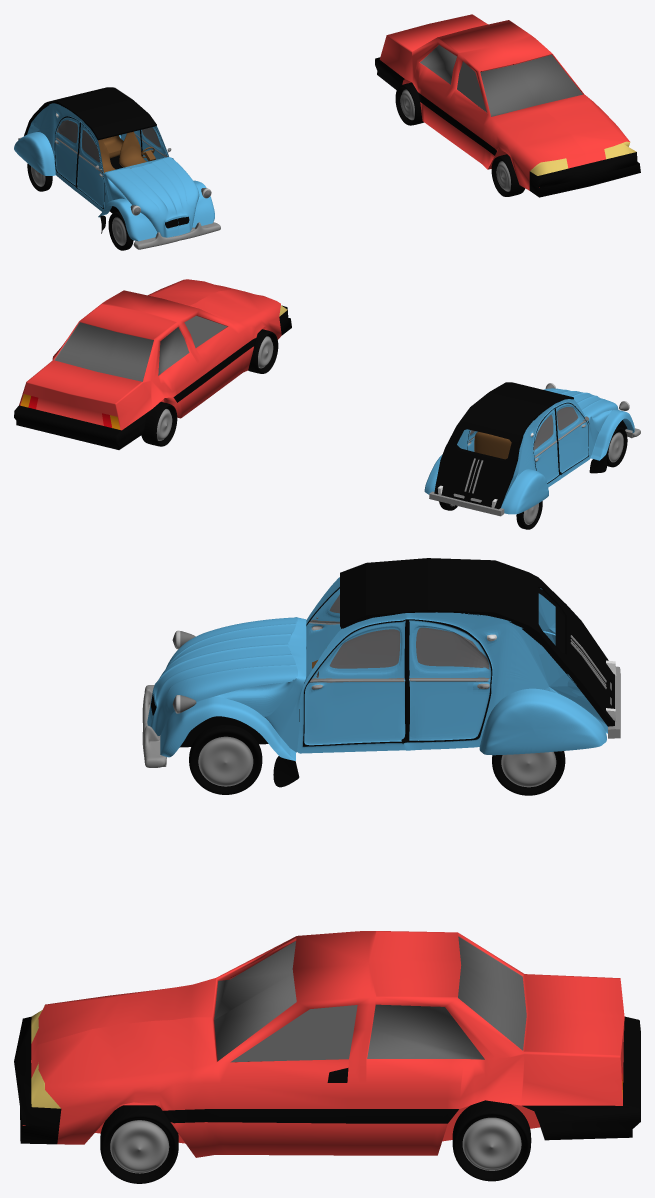
Rendered from tsuru.fbx.
3 renders of one model, top to bottom at view 1: azimuth 30°, elevation 25°; view 2: azimuth 150°, elevation 25°; view 3: azimuth 270°, elevation 25°, orthographic. The views are drawn at different scales.
Parts seen in each view (by area): view 1: Plane, puertas, cofre, techo, salpicadera delantera, llantas.001, salpicadera trasera, ASIENTOS, parilla, llantas.003, llantas.004; view 2: Plane, techo, puertas, llantas.001, salpicadera trasera, salpicadera delantera, cofre, ASIENTOS, llantas.003, llantas.004; view 3: Plane, puertas, techo, llantas.001, cofre, salpicadera trasera, salpicadera delantera, llantas, llantas.002, ladocofre, parilla.
Boxes of the visible parts, box(x1,y1,x2,y2) form: Plane: box(375, 14, 640, 197); puertas: box(27, 103, 168, 211); cofre: box(106, 157, 199, 237); techo: box(18, 87, 156, 140); salpicadera delantera: box(98, 157, 214, 241); llantas.001: box(395, 82, 525, 196); salpicadera trasera: box(14, 132, 120, 175); ASIENTOS: box(98, 131, 146, 172); parilla: box(133, 222, 220, 249); llantas.003: box(108, 211, 133, 250); llantas.004: box(27, 163, 52, 191); Plane: box(14, 279, 291, 449); techo: box(429, 382, 573, 516); puertas: box(457, 399, 590, 508); llantas.001: box(141, 329, 278, 446); salpicadera trasera: box(424, 454, 548, 514); salpicadera delantera: box(584, 409, 634, 460); cofre: box(543, 388, 618, 417); ASIENTOS: box(474, 431, 511, 459); llantas.003: box(606, 426, 627, 467); llantas.004: box(516, 501, 542, 529); Plane: box(14, 931, 640, 1157); puertas: box(297, 577, 607, 753); techo: box(340, 558, 620, 738); llantas.001: box(100, 1100, 531, 1183); cofre: box(147, 617, 297, 735); salpicadera trasera: box(479, 631, 606, 755); salpicadera delantera: box(160, 617, 306, 760); llantas: box(189, 724, 262, 794); llantas.002: box(492, 751, 565, 795); ladocofre: box(215, 679, 295, 716); parilla: box(142, 685, 166, 767).
Size of the model in its own units: 482 by 106 by 292.
